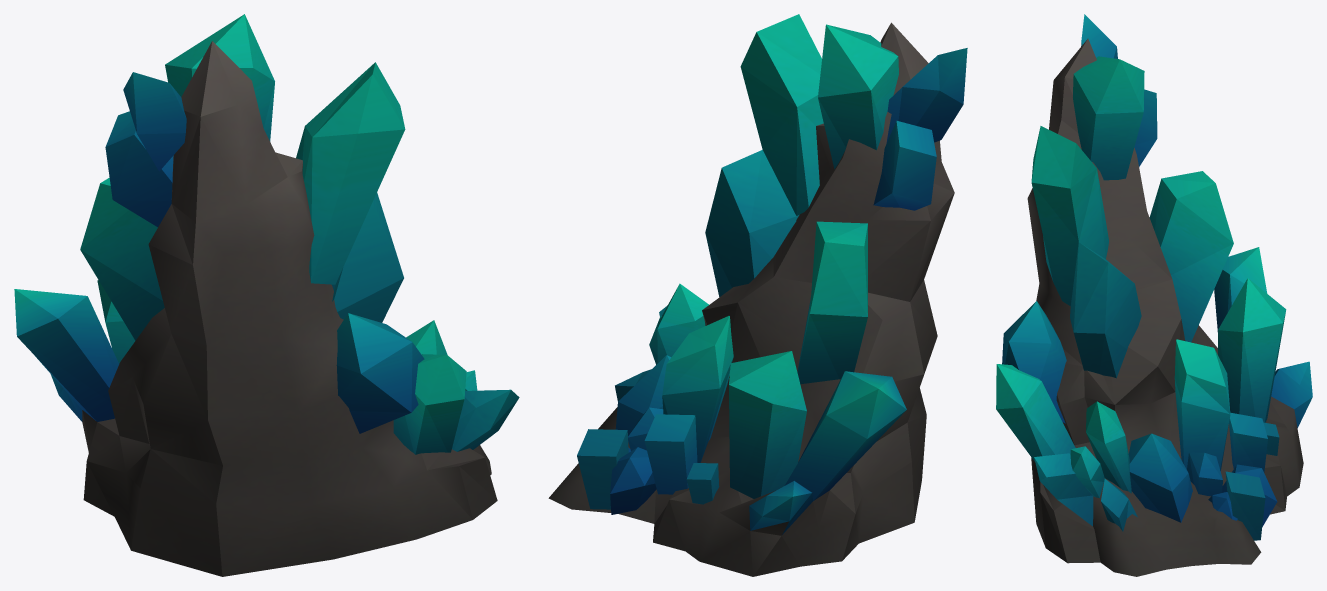
The model's file is ZLP_Crystalk_A_6.FBX.
The picture shows the model from 3 angles, left to right: view 1: azimuth 30°, elevation 25°; view 2: azimuth 150°, elevation 25°; view 3: azimuth 270°, elevation 25°; orthographic projection. The views are drawn at different scales.
Visible parts, largest first — view 1: ZLP_Crystalk_A_6; view 2: ZLP_Crystalk_A_6; view 3: ZLP_Crystalk_A_6.
Boxes of the visible parts, left/top/right/bottom form: ZLP_Crystalk_A_6: left=14, top=14, right=519, bottom=576; ZLP_Crystalk_A_6: left=548, top=14, right=967, bottom=576; ZLP_Crystalk_A_6: left=996, top=14, right=1312, bottom=576.
Bounding box in the file's own units: 268 × 320 × 220.
